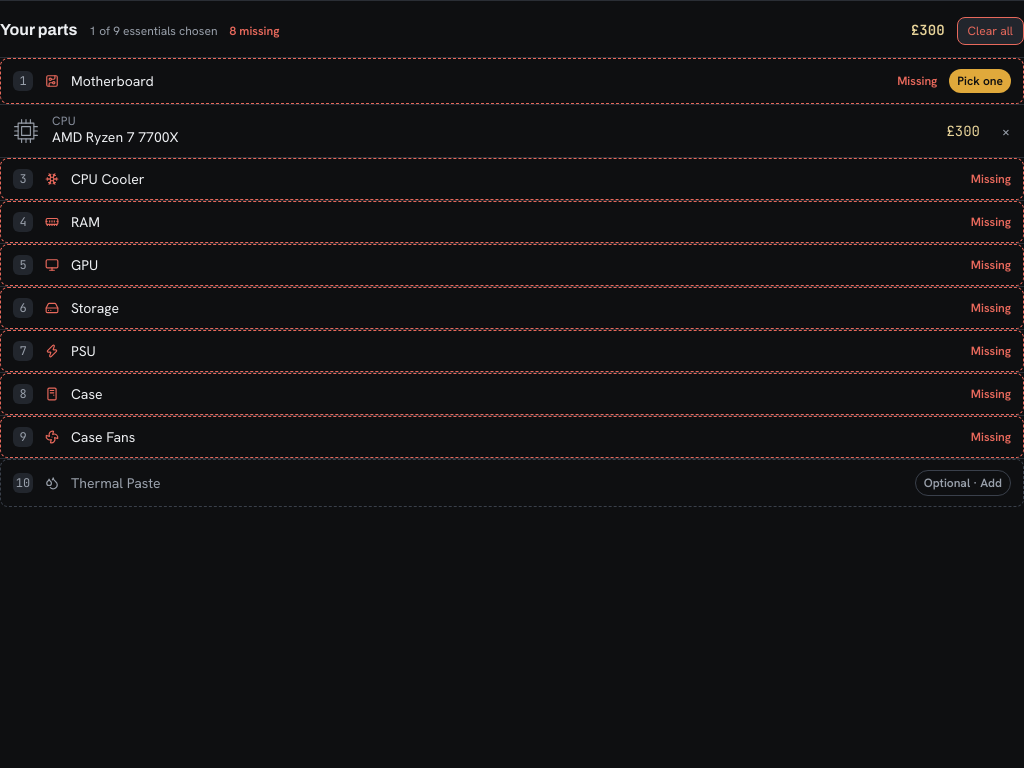
it: SelectedPartsPanel clear all › asks first, then empties the build on confirm
This screenshot has width=1024, height=768.
Click the button "Clear all": (990, 31) [957,17,1023,45]
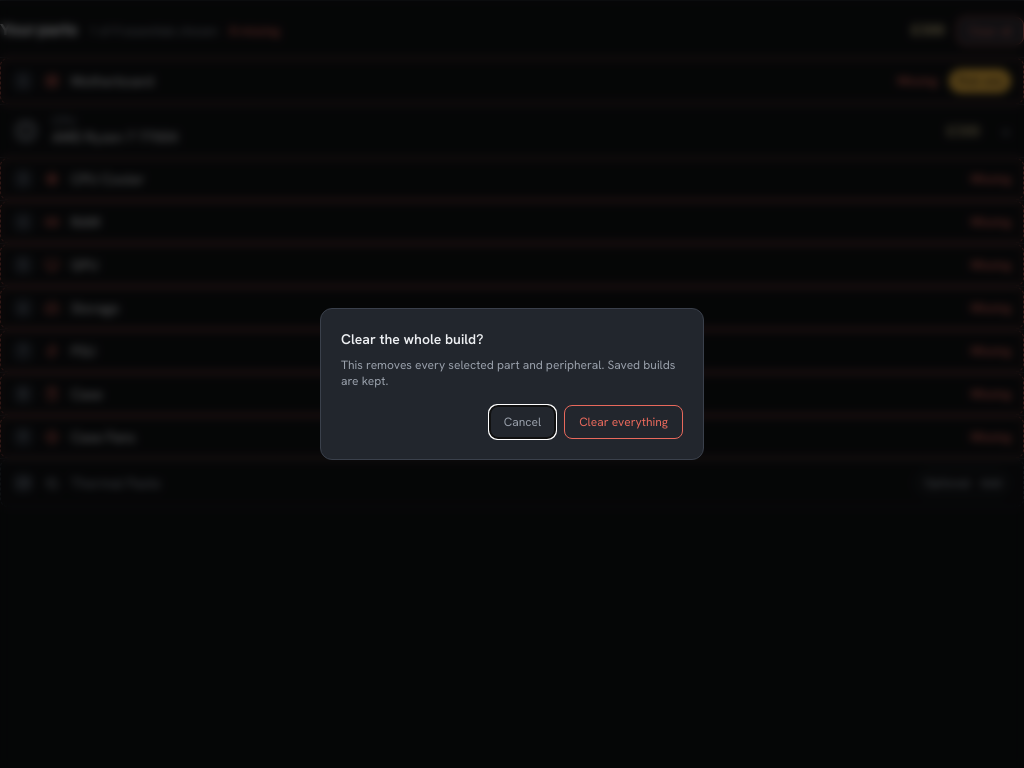
Expected: the dialog is shown, [320,308,704,460]
Click the button "Clear everything": (624, 422) [564,405,683,439]
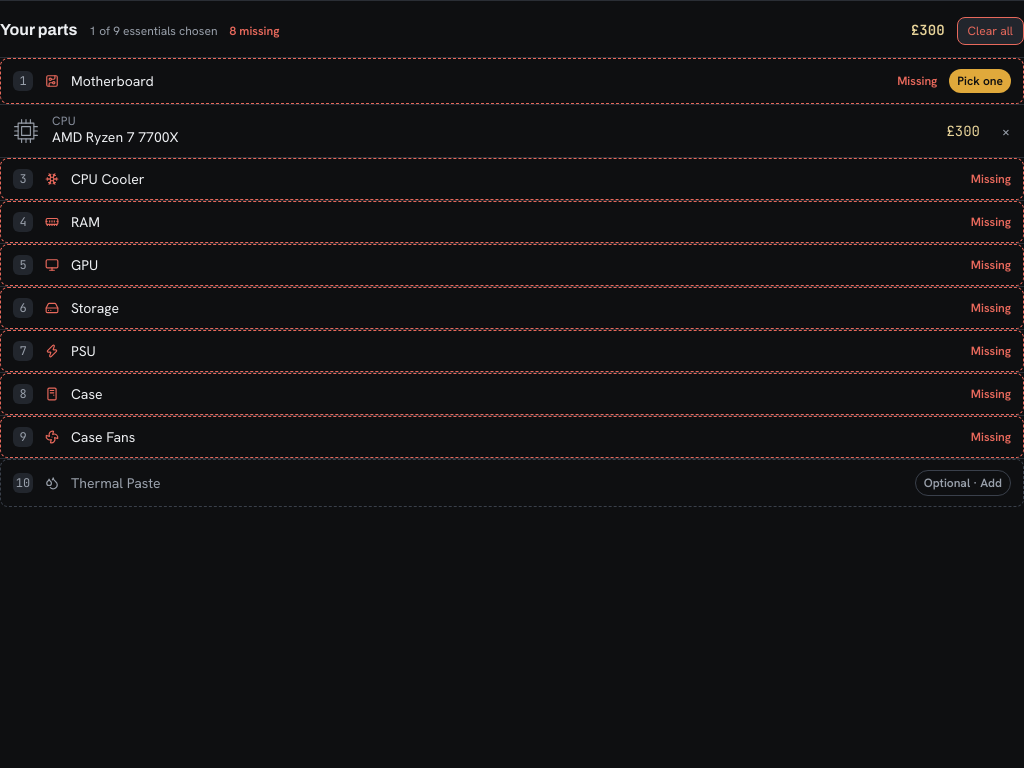
Expected: the dialog is gone
